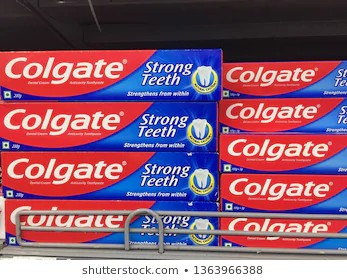colgate-medium: (1, 49, 221, 104), (1, 101, 221, 153), (1, 153, 221, 205), (1, 202, 220, 250)
colgate-small: (222, 98, 347, 136), (221, 134, 346, 172), (221, 172, 346, 210), (222, 214, 347, 252), (222, 60, 347, 97)
